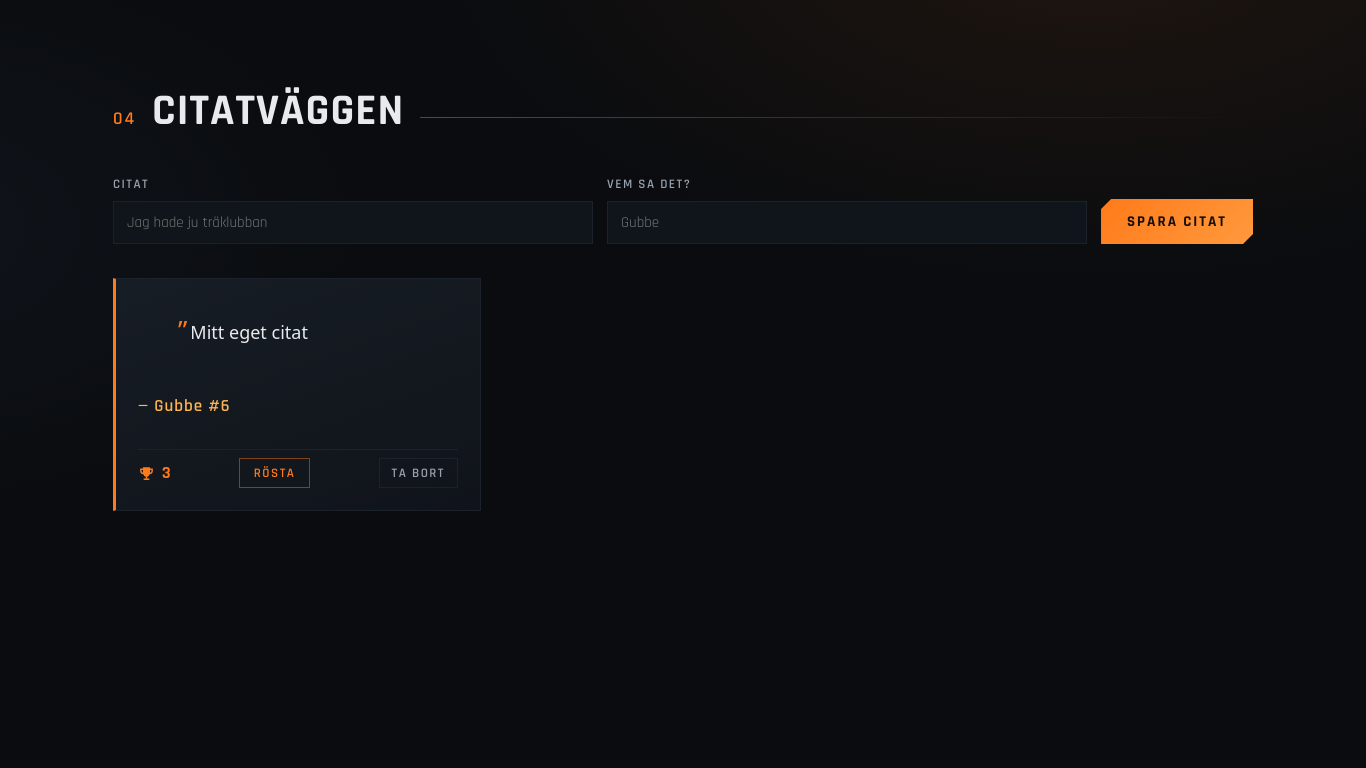
Test: Quotes › removing your own quote › keeps the quote and says so when the removal fails
Click the button "Ta bort". click: (418, 473)
box: [379,458,458,488]
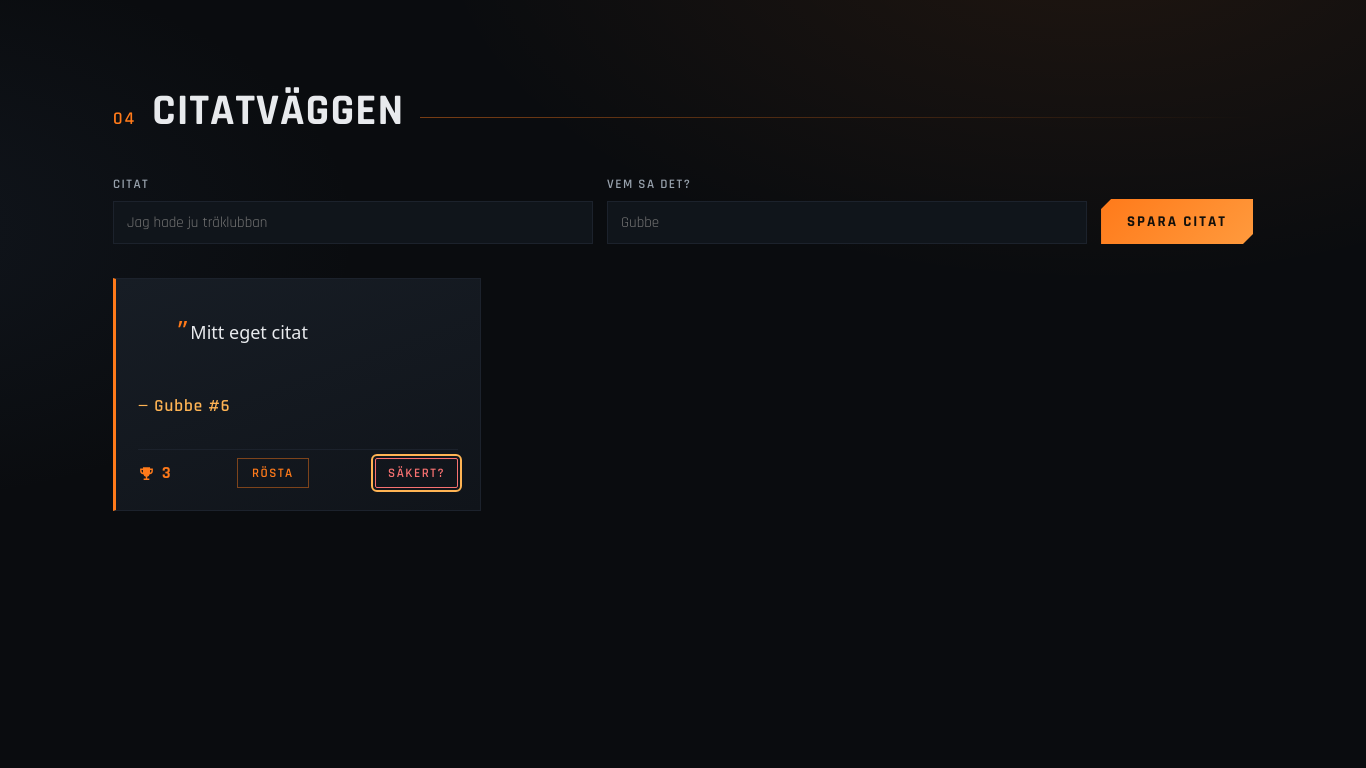
Click the button "Säkert?". click: (417, 473)
box: [375,458,458,488]
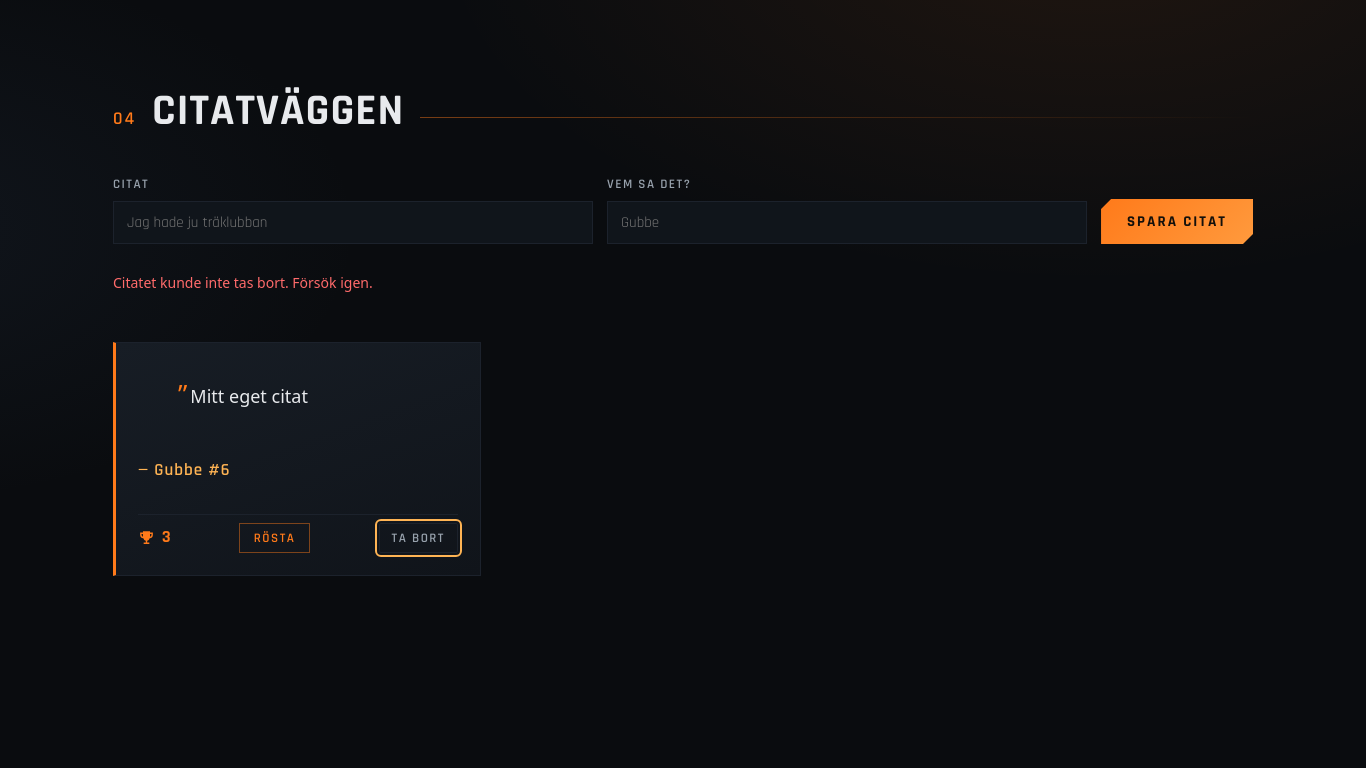
Expected: the text "Mitt eget citat" is shown, [190,384,308,408]
Now the text "Citatet kunde inte tas bort. Försök igen." is shown, box [113,273,373,292]
